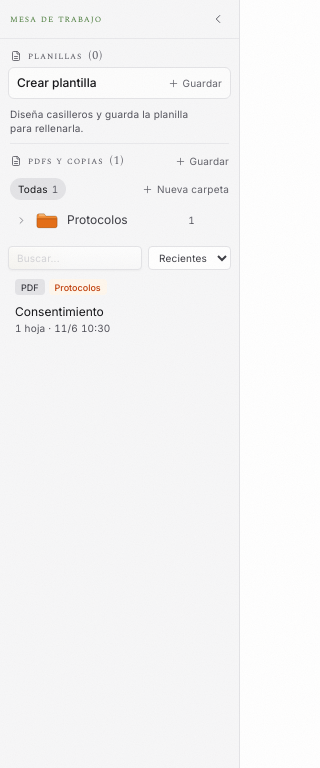
Test: <WorkspacePanel /> · planillas › muestra una cabecera editorial al abrir una carpeta
Click the button with aria-label "Abrir carpeta Protocolos". click: (106, 220)
box: x1=10 y1=204 x2=201 y2=236
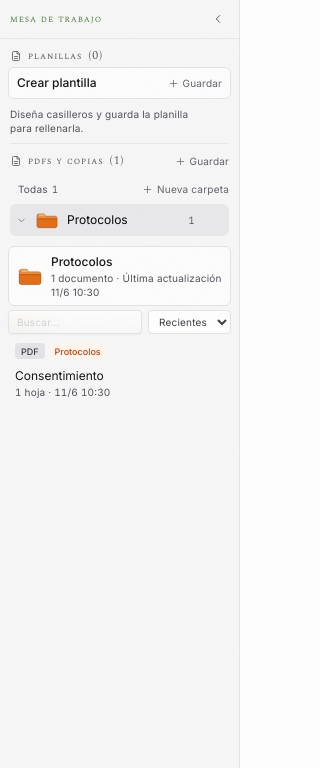
Now the element named "Carpeta Protocolos" shows "Protocolos", box x1=51 y1=254 x2=112 y2=269
Now the element named "Carpeta Protocolos" shows "1 documento", box x1=51 y1=272 x2=114 y2=284
Now the element named "Carpeta Protocolos" shows "Última actualización", box x1=114 y1=272 x2=222 y2=284
